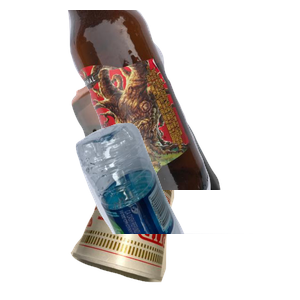glass: (65, 10, 300, 190)
metal: (69, 58, 300, 238)
plastic: (73, 120, 300, 300)
trash: (68, 158, 235, 300)
